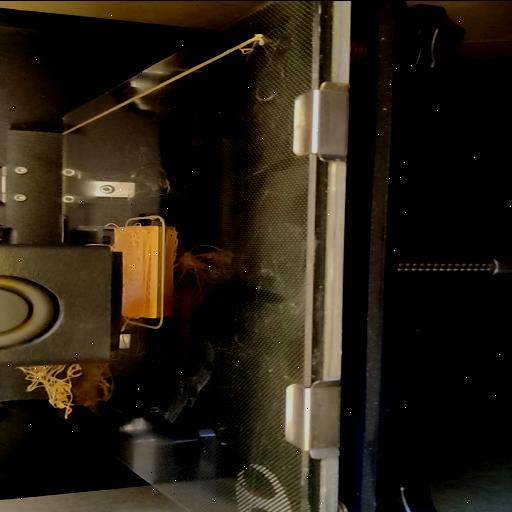spaghetti: (19, 364, 86, 422)
